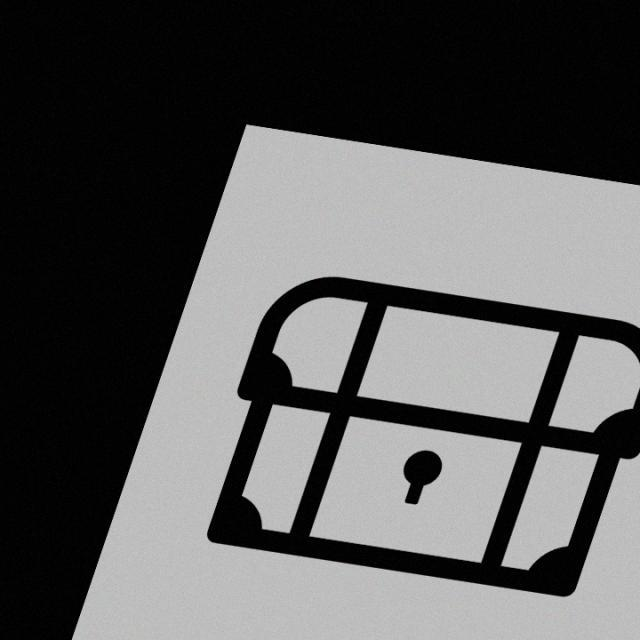treasure_box: (197, 272, 639, 608)
